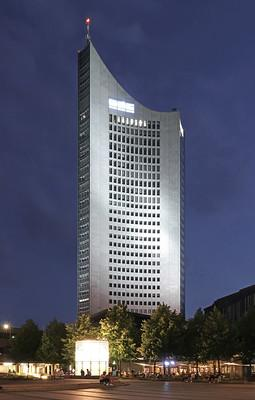building: (74, 24, 186, 329)
